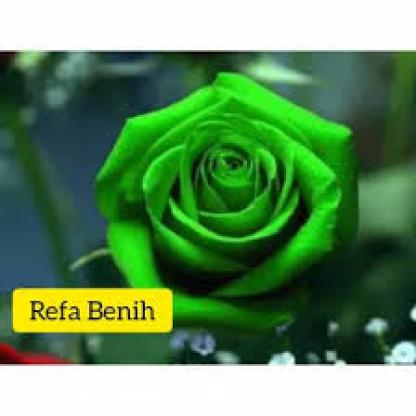Rose-Mawar: (90, 64, 365, 334)
